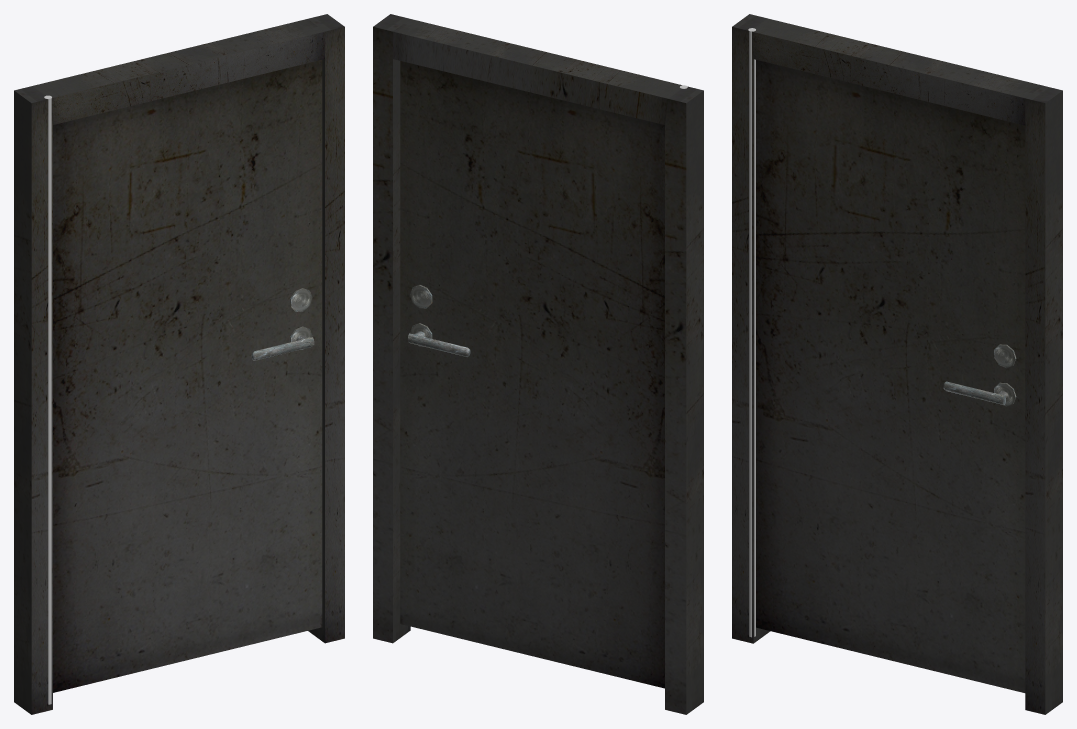
Rendered from door_modern_mine.dae.
3 renders of one model, left to right at view 1: azimuth 30°, elevation 25°; view 2: azimuth 150°, elevation 25°; view 3: azimuth 330°, elevation 25°, orthographic.
Visible parts, largest first — view 1: door, frame, _joint_hinge_door_null_95_0_nocollide_joint1; view 2: door, frame; view 3: door, frame, _joint_hinge_door_null_95_0_nocollide_joint1.
Boxes of the visible parts, x1,y1,x2,y2 form: door: (53,60,322,692); frame: (14,14,344,714); _joint_hinge_door_null_95_0_nocollide_joint1: (44,95,51,704); door: (400,61,664,688); frame: (373,14,703,714); door: (756,60,1025,692); frame: (732,14,1062,714); _joint_hinge_door_null_95_0_nocollide_joint1: (748,28,755,637).
Size of what is drawn, in the model's own units: 1.13 by 2.1 by 0.1553.
